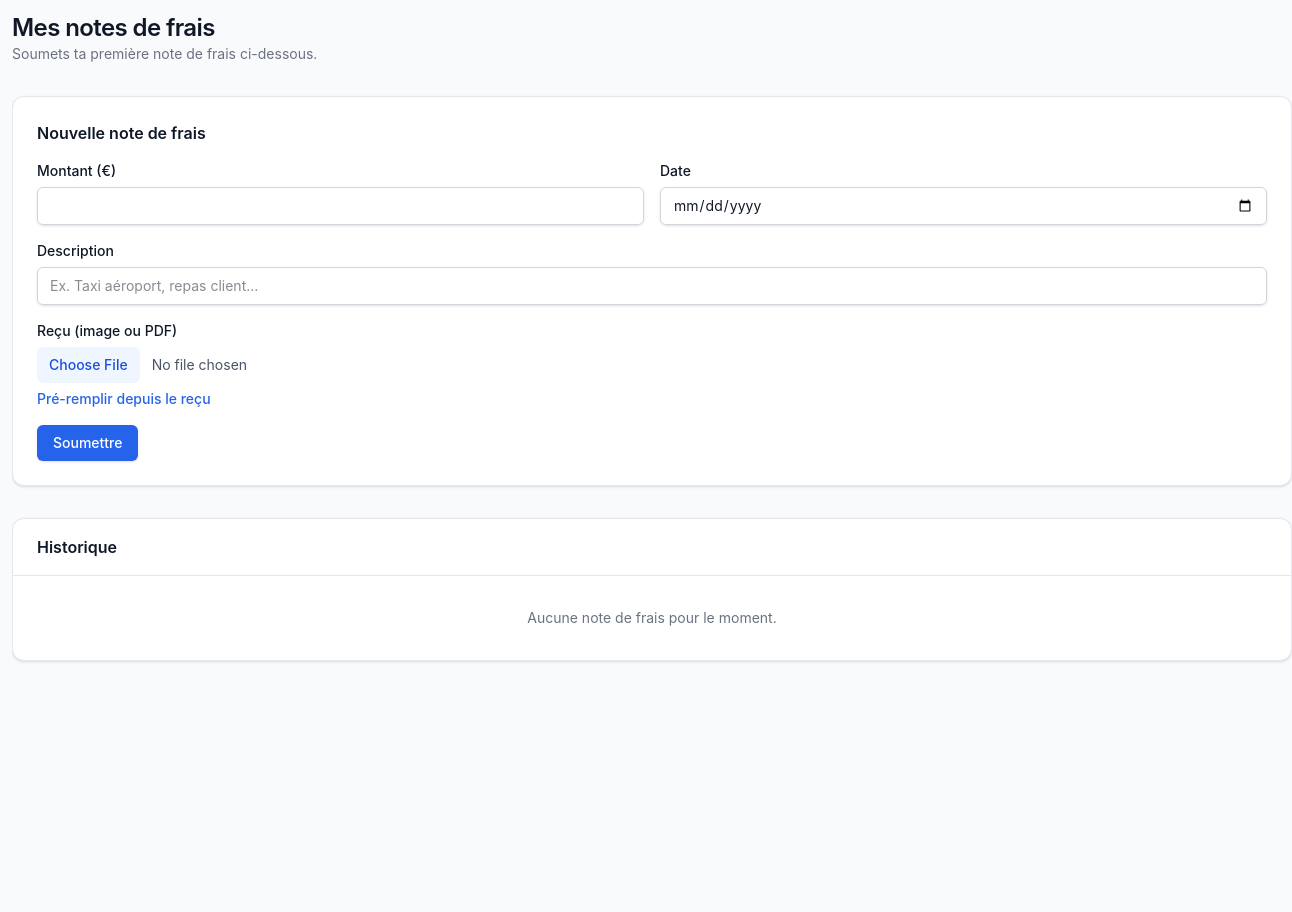
Test: pré-remplissage depuis le reçu › sans reçu sélectionné : « Sélectionne d’abord un reçu. », aucun appel
Expected: the text "Aucune note de frais pour le moment." is shown, x1=527 y1=609 x2=777 y2=626
Step 1. Click the button "Pré-remplir depuis le reçu" → click(124, 399), box x1=37 y1=389 x2=211 y2=409
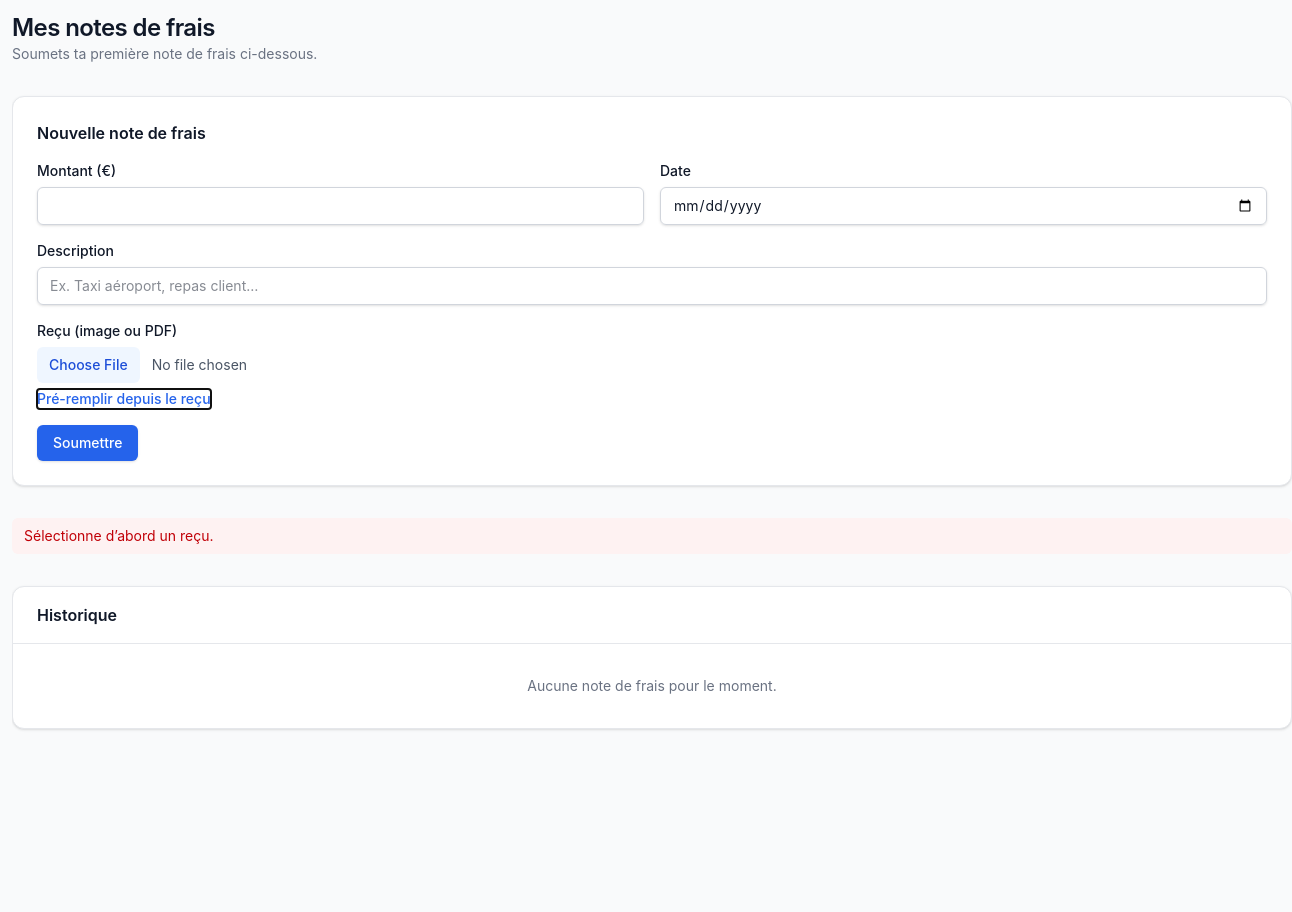
Expected: the message reads "Sélectionne d’abord un reçu.", x1=24 y1=527 x2=214 y2=544
